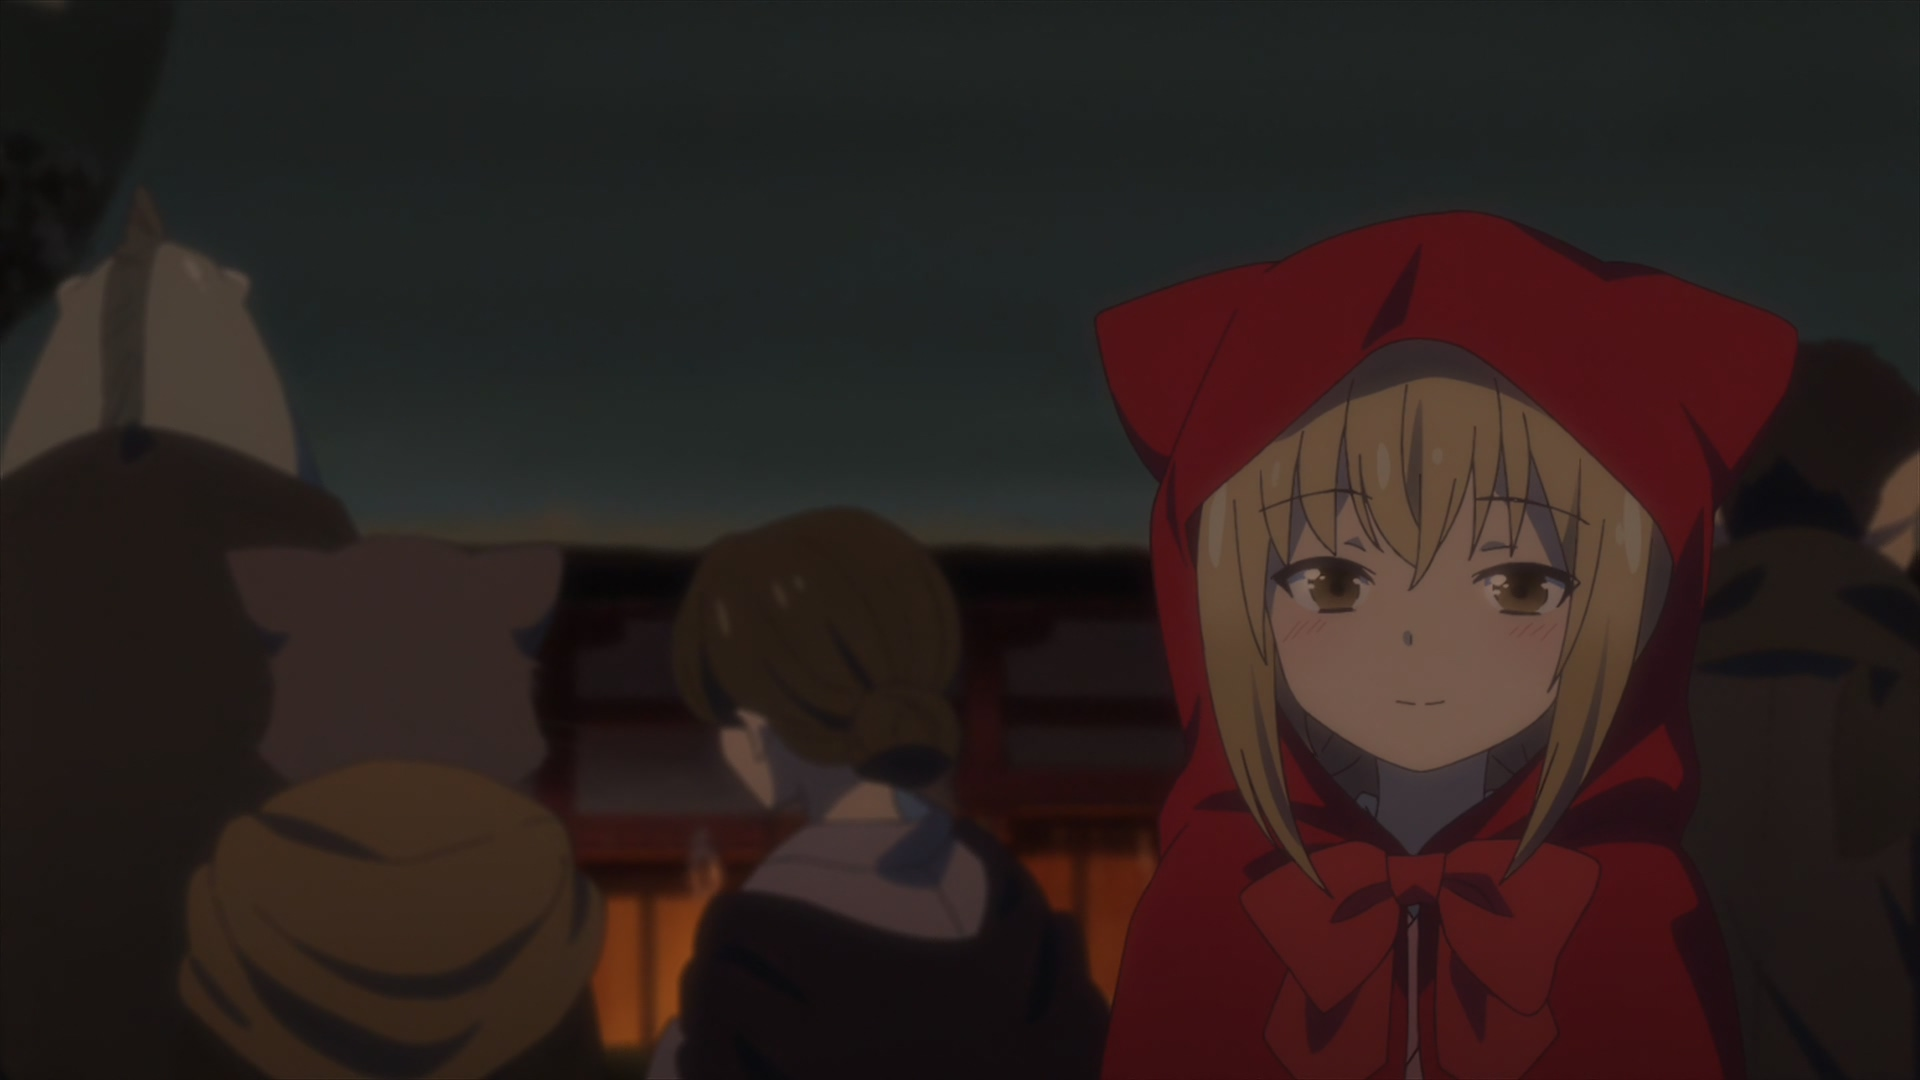其他: (1, 185, 360, 1080), (665, 506, 1106, 1080), (171, 539, 607, 1080), (1701, 339, 1920, 1080)
柚: (1093, 212, 1799, 1080)
